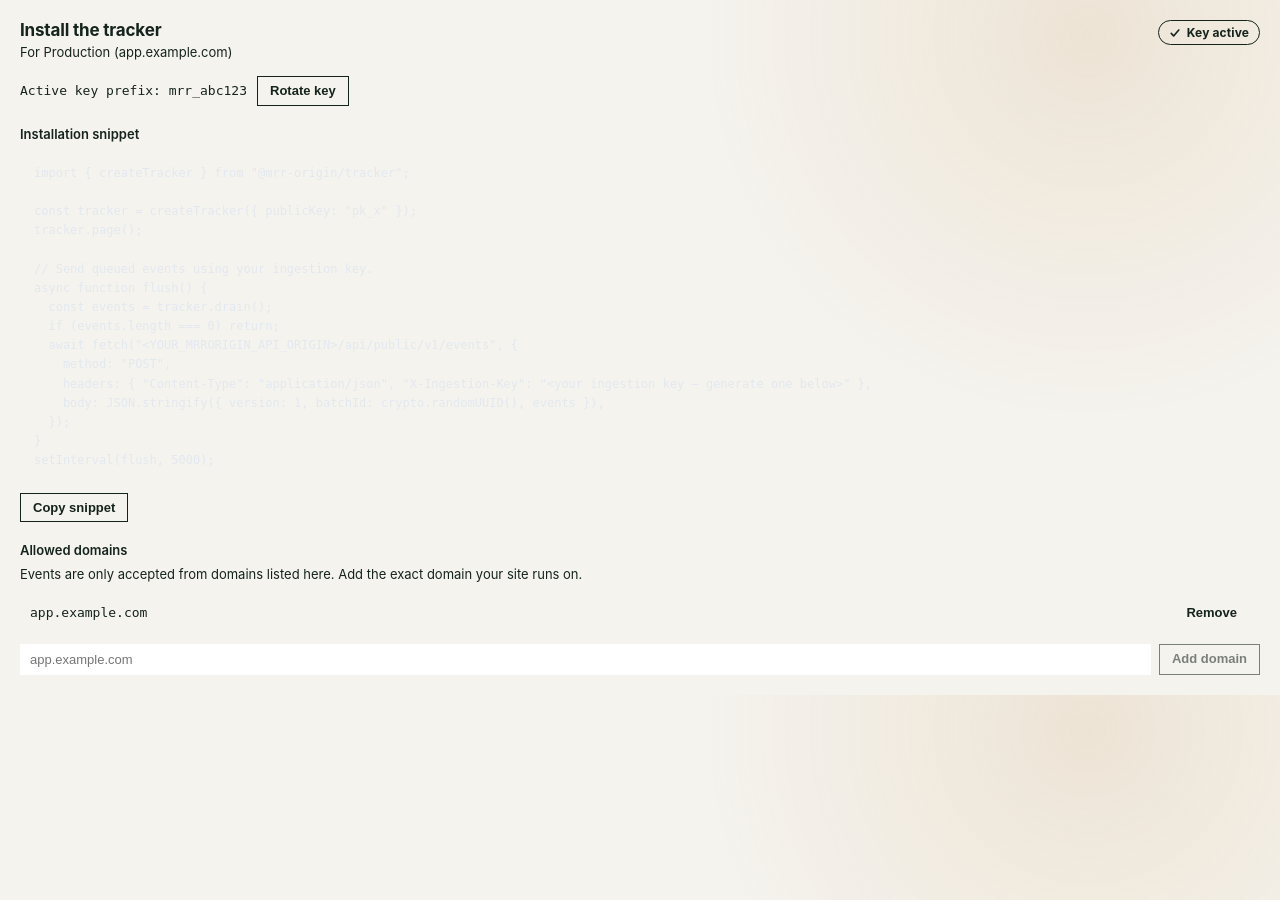
Test: TrackerInstallCard › shows a retry-safe error when removing a domain fails
What coordinates should you click on to do the following:
click the button with aria-label "remove app.example.com"
I would click on:
 (1212, 613)
Its box is [1173,598,1250,628].
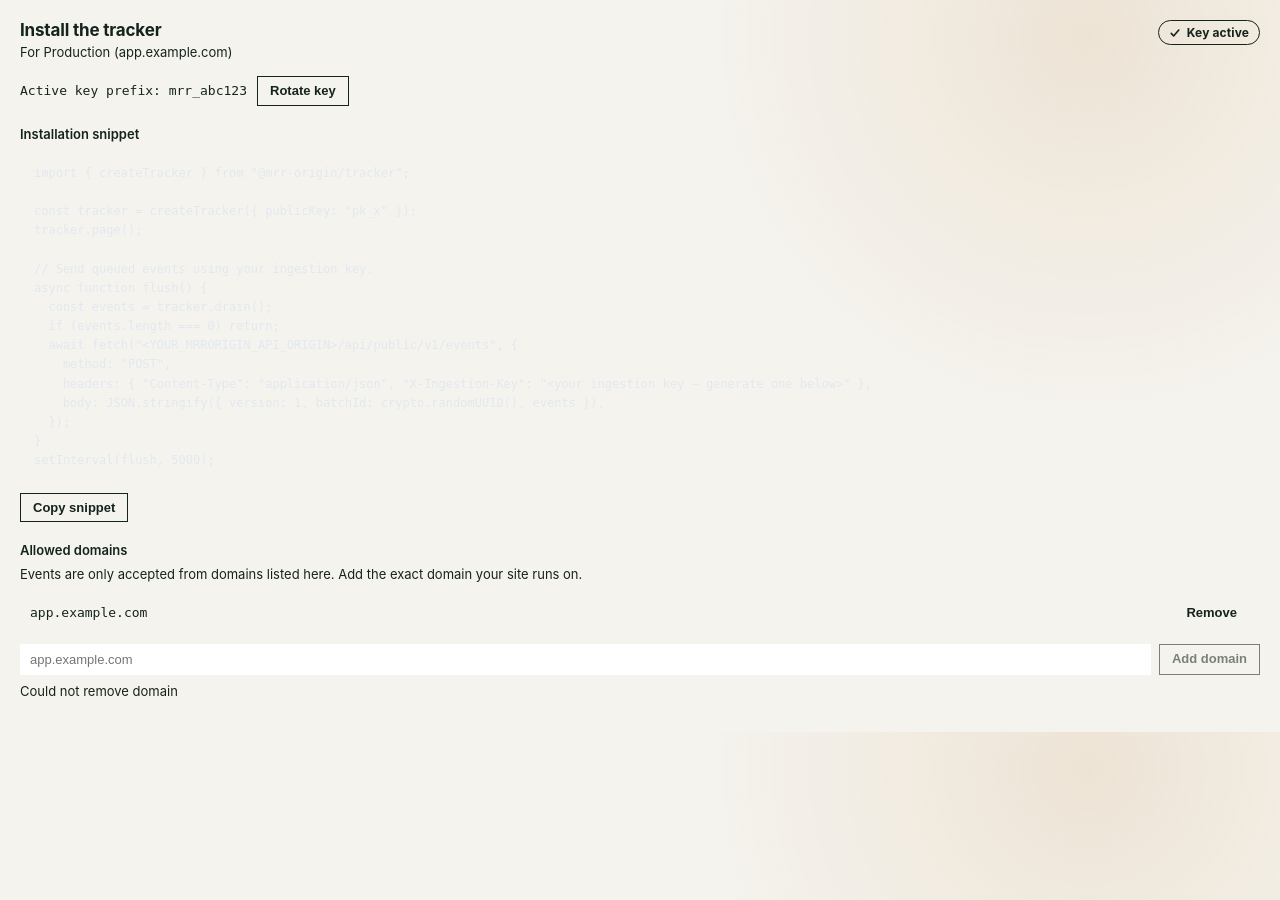
expect the text "app.example.com" is shown: met, box [30,606,147,620]
expect the message reads "Could not remove domain": met, box [20,683,178,699]
